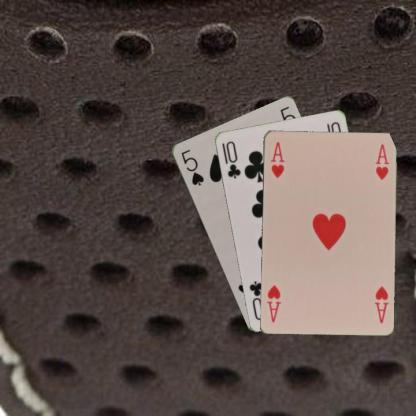10c: (223, 138, 242, 180)
5s: (178, 146, 205, 187)
Ah: (372, 283, 390, 324), (268, 139, 286, 179)
